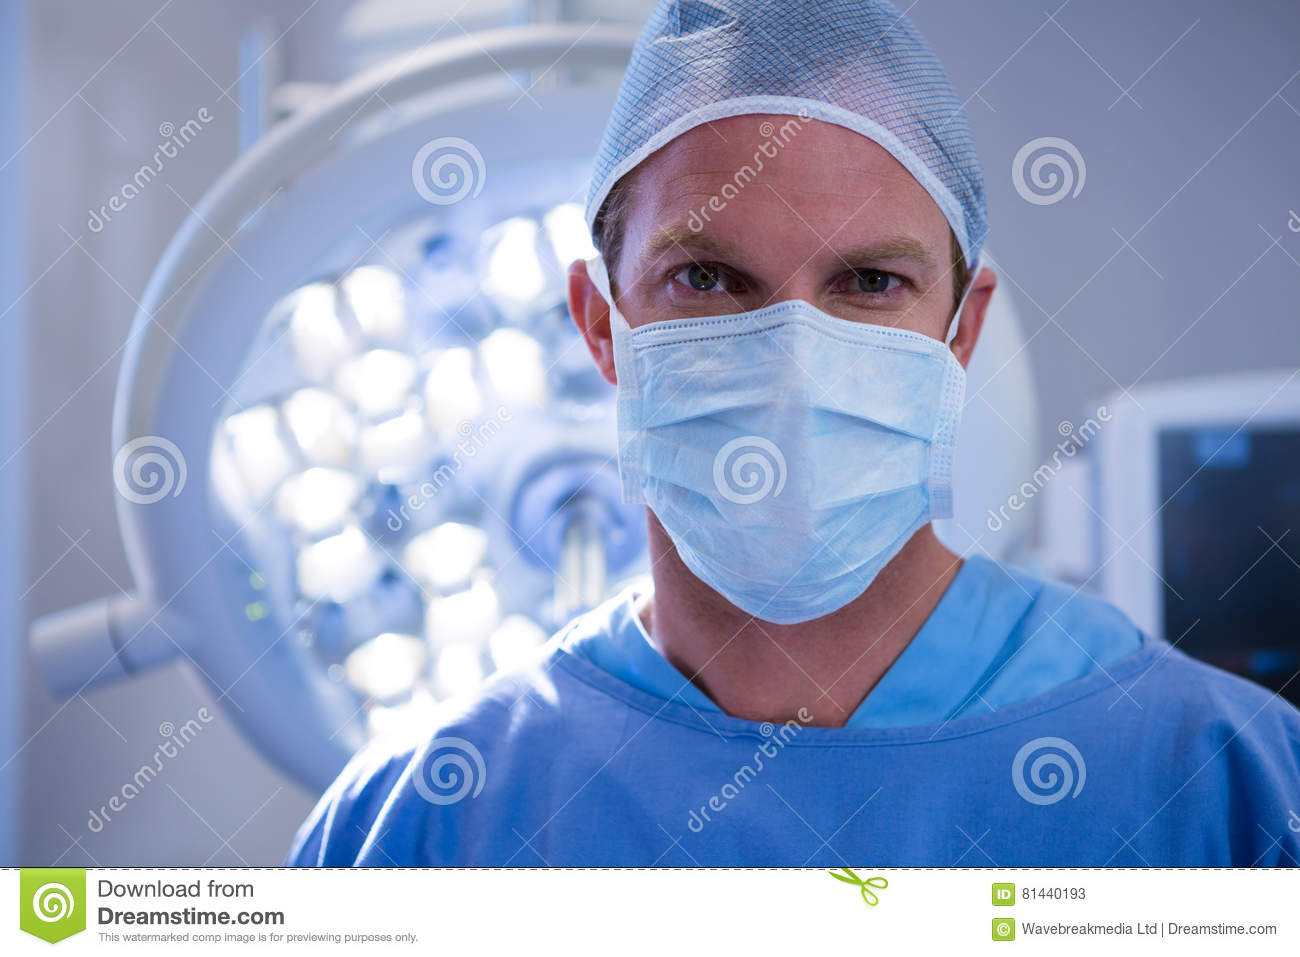mask: (611, 307, 960, 591)
